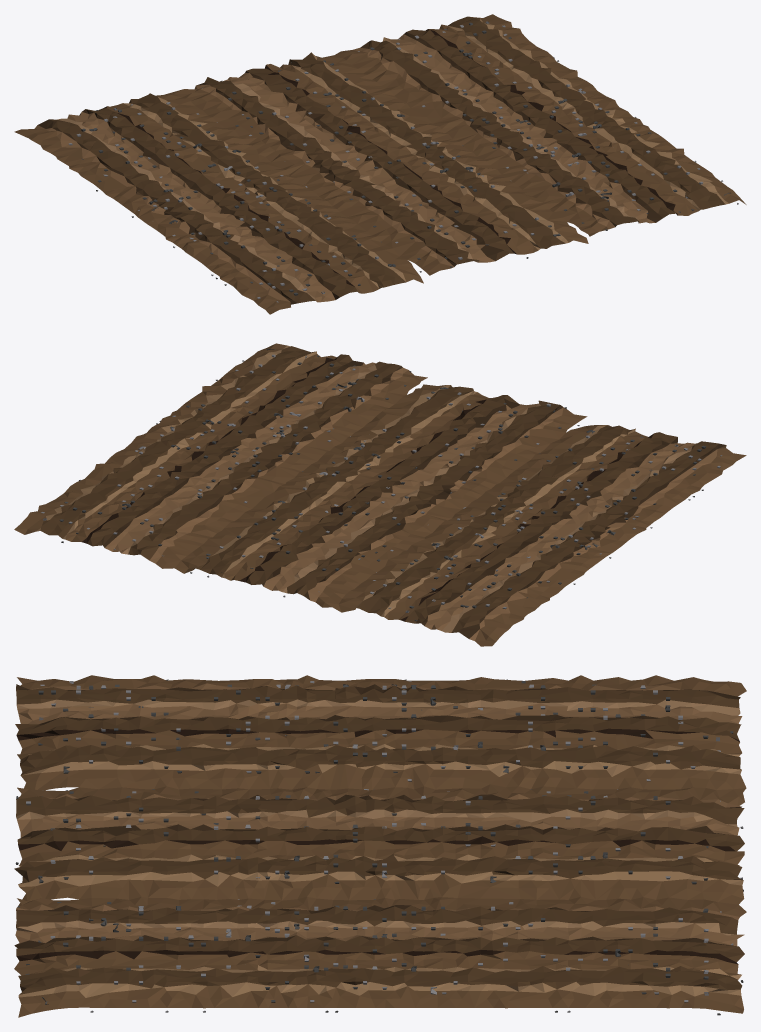
Rendered from EA_M_Env_Field_Mud_01b.fbx.
The picture shows the model from 3 angles, top to bottom: view 1: azimuth 30°, elevation 25°; view 2: azimuth 150°, elevation 25°; view 3: azimuth 270°, elevation 25°; orthographic projection. The views are drawn at different scales.
Parts seen in each view (by area): view 1: EA_M_Env_Field_Mud_01b_LOD0; view 2: EA_M_Env_Field_Mud_01b_LOD0; view 3: EA_M_Env_Field_Mud_01b_LOD0.
Part boxes in pixels (x1=…): EA_M_Env_Field_Mud_01b_LOD0: x1=14, y1=14, x2=746, y2=314; EA_M_Env_Field_Mud_01b_LOD0: x1=14, y1=343, x2=746, y2=646; EA_M_Env_Field_Mud_01b_LOD0: x1=14, y1=675, x2=746, y2=1017.
Size of what is drawn, in the model's own units: 11.89 by 0.3567 by 11.06.
